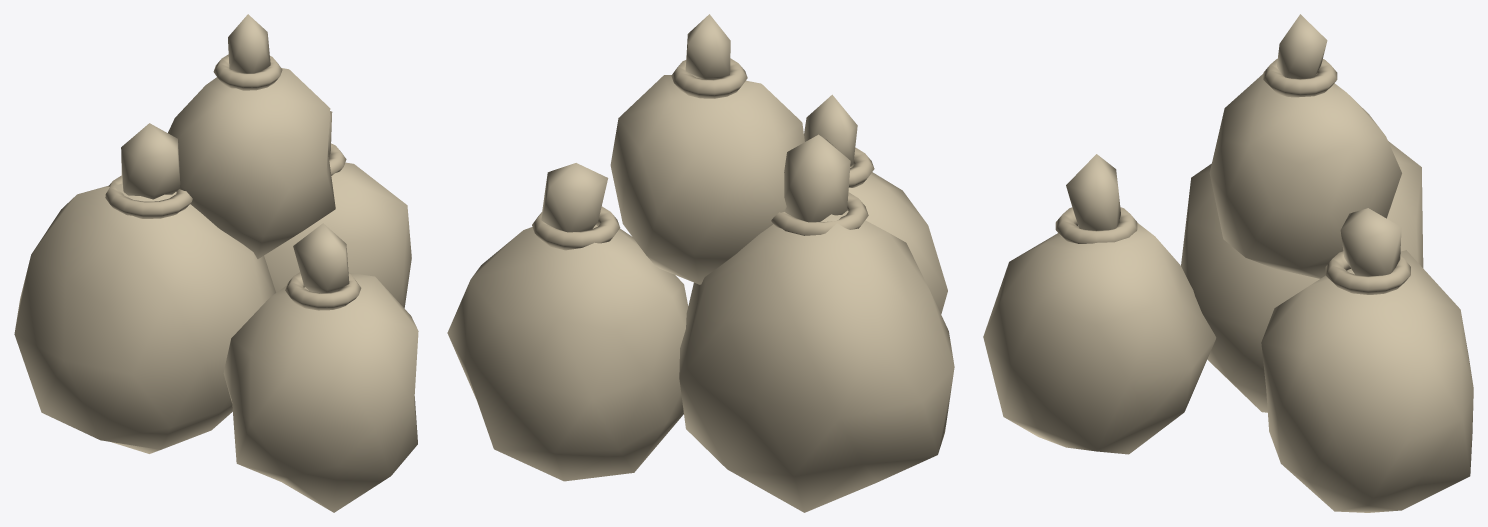
File: camp_sacks.glb
3 renders of one model, left to right at view 1: azimuth 30°, elevation 25°; view 2: azimuth 150°, elevation 25°; view 3: azimuth 270°, elevation 25°, orthographic. The views are drawn at different scales.
Visible parts, largest first — view 1: sack, sack.002, sack.003, sack.001, neck, neck.002, neck.003, tie, tie.002, tie.003; view 2: sack, sack.001, sack.003, neck, sack.002, neck.001, neck.003, neck.002, tie.001, tie.003, tie, tie.002; view 3: sack.001, sack.002, sack.003, sack, neck.001, neck.002, neck.003, tie.001, tie.003, tie.002.
Boxes of the visible parts, x1,y1,x2,y2 form: sack: (14, 183, 275, 453); sack.002: (223, 272, 418, 512); sack.003: (168, 68, 335, 258); sack.001: (264, 162, 411, 308); neck: (121, 123, 180, 199); neck.002: (293, 223, 349, 293); neck.003: (228, 14, 270, 73); tie: (105, 175, 192, 218); tie.002: (285, 272, 361, 310); tie.003: (213, 54, 282, 90); sack: (679, 210, 954, 512); sack.001: (447, 225, 688, 481); sack.003: (610, 75, 804, 284); neck: (784, 134, 850, 222); sack.002: (848, 167, 947, 314); neck.001: (541, 163, 608, 232); neck.003: (685, 14, 730, 79); neck.002: (804, 94, 857, 166); tie.001: (532, 206, 620, 250); tie.003: (671, 58, 747, 98); tie: (771, 192, 868, 235); tie.002: (848, 147, 874, 187); sack.001: (1261, 250, 1473, 512); sack.002: (983, 223, 1216, 454); sack.003: (1209, 74, 1401, 278); sack: (1181, 141, 1423, 412); neck.001: (1340, 208, 1401, 276); neck.002: (1066, 154, 1120, 230); neck.003: (1277, 14, 1327, 78); tie.001: (1325, 251, 1410, 294); tie.003: (1263, 59, 1337, 97); tie.002: (1055, 207, 1137, 243).
Bounding box in the file's own units: 0.8963 × 0.8877 × 0.8668.
